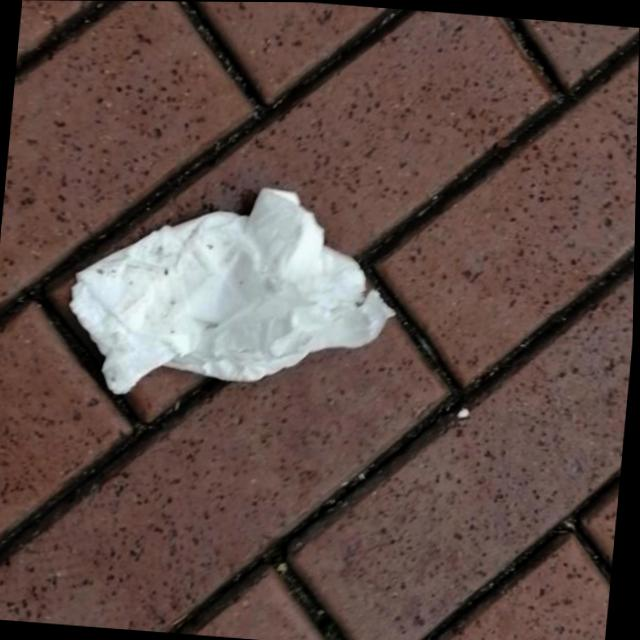Paper: (60, 169, 410, 416)
